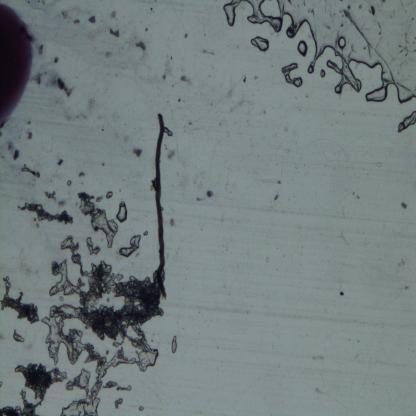Air bubble: (243, 0, 416, 106), (283, 60, 304, 90), (118, 233, 143, 258), (223, 0, 241, 30), (397, 110, 416, 134), (252, 34, 270, 54), (118, 200, 128, 224), (298, 39, 308, 59), (169, 335, 178, 356), (337, 35, 347, 50)
Background material: (43, 234, 159, 415), (0, 358, 66, 414), (76, 186, 119, 248), (0, 270, 39, 324), (15, 192, 74, 226), (40, 64, 77, 99), (65, 100, 92, 124), (6, 137, 20, 163), (394, 192, 410, 212), (21, 166, 42, 180), (160, 58, 172, 80), (107, 23, 122, 40), (24, 120, 35, 141), (131, 145, 144, 162), (133, 39, 147, 54), (12, 328, 25, 344), (87, 10, 98, 25), (180, 72, 188, 86), (273, 188, 282, 200), (77, 169, 86, 180), (205, 188, 213, 200), (335, 288, 345, 297), (57, 158, 64, 168), (64, 180, 72, 188), (184, 32, 190, 40)
Microfibre: (154, 112, 171, 300)
Pen: (0, 3, 39, 135)
